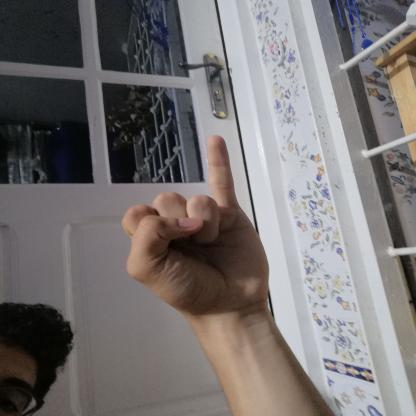MEEM: (106, 131, 288, 326)
